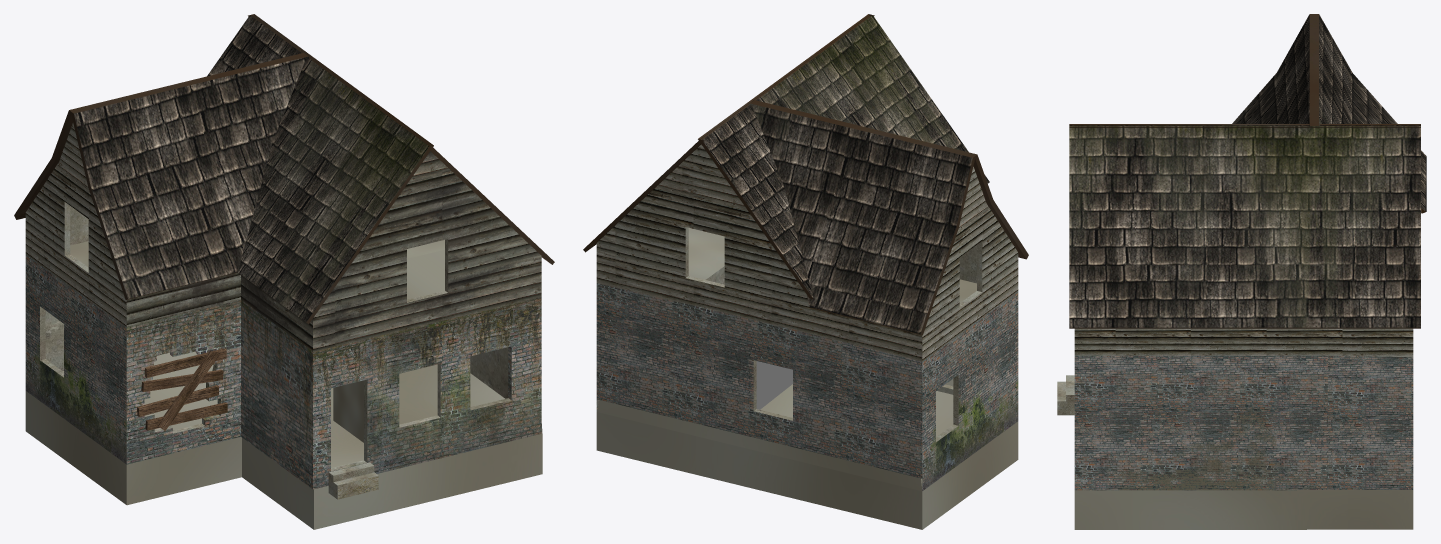
Rendered from DA_House_Medium_01.FBX.
The picture shows the model from 3 angles, left to right: view 1: azimuth 30°, elevation 25°; view 2: azimuth 150°, elevation 25°; view 3: azimuth 270°, elevation 25°; orthographic projection. The views are drawn at different scales.
Parts seen in each view (by area): view 1: roof, Front_EG, Front_OG, Floor, Left_EG, Left_OG, Holz, floor2, Box003, Right_EG, Back_EG; view 2: roof, Back_EG, Back_OG, Floor, Left_EG, Left_OG, floor2, Stairs, Front_OG; view 3: roof, Right_EG, Floor, Right_OG, Front_EG.
Part boxes in pixels (<box>): roof: <box>14,14,554,324</box>; Front_EG: <box>126,296,541,499</box>; Front_OG: <box>126,151,541,351</box>; Floor: <box>25,351,542,529</box>; Left_EG: <box>25,254,126,464</box>; Left_OG: <box>25,122,126,326</box>; Holz: <box>137,348,227,430</box>; floor2: <box>70,240,444,299</box>; Box003: <box>333,380,363,442</box>; Right_EG: <box>470,347,542,432</box>; Back_EG: <box>45,311,63,370</box>; roof: <box>583,14,1028,335</box>; Back_EG: <box>596,283,922,478</box>; Back_OG: <box>596,144,922,361</box>; Floor: <box>596,379,1018,529</box>; Left_EG: <box>922,291,1018,490</box>; Left_OG: <box>922,166,1018,361</box>; floor2: <box>688,228,976,302</box>; Stairs: <box>756,361,792,409</box>; Front_OG: <box>959,245,976,283</box>; roof: <box>1069,14,1426,328</box>; Right_EG: <box>1074,355,1413,490</box>; Floor: <box>1074,490,1413,529</box>; Right_OG: <box>1074,328,1413,357</box>; Front_EG: <box>1057,375,1074,415</box>.
Size of the model in its own units: 252 by 240 by 230.
